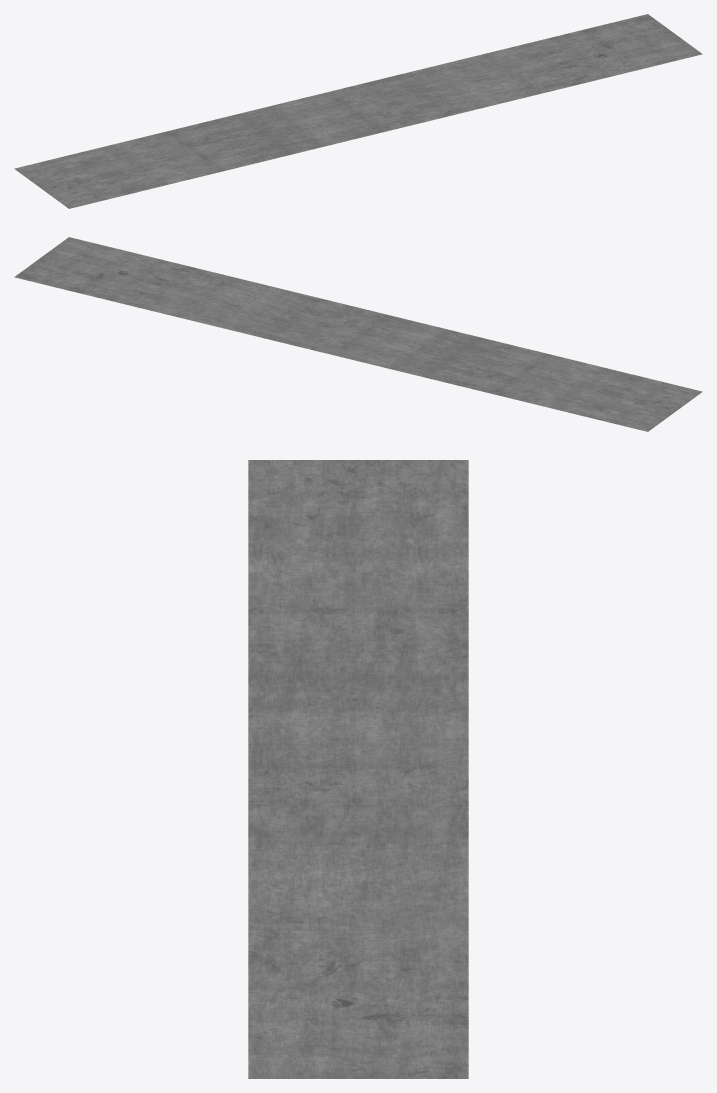
Rendered from techo.fbx.
3 renders of one model, top to bottom at view 1: azimuth 30°, elevation 25°; view 2: azimuth 150°, elevation 25°; view 3: azimuth 270°, elevation 25°, orthographic. The views are drawn at different scales.
Parts seen in each view (by area): view 1: pared5; view 2: pared5; view 3: pared5.
Boxes of the visible parts, bbox=[...] form: pared5: bbox=[14, 14, 702, 208]; pared5: bbox=[14, 237, 702, 431]; pared5: bbox=[248, 460, 468, 1078].
Bounding box in the file's own units: 1552 × 3.61e-05 × 233.
